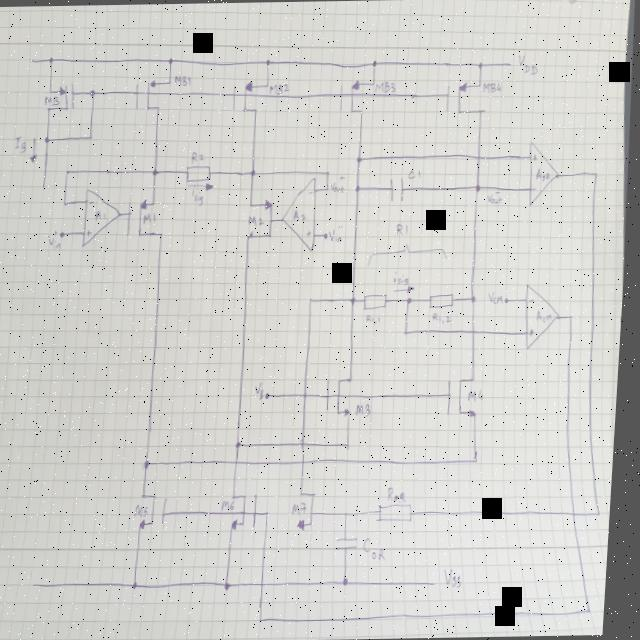capacitor: (338, 534, 364, 552), (390, 174, 405, 200)
crossover: (237, 458, 244, 467), (305, 390, 312, 398), (575, 508, 582, 516), (476, 152, 482, 160), (473, 326, 479, 334), (303, 438, 309, 444), (265, 579, 269, 587), (305, 458, 310, 464)
junction: (347, 575, 355, 586), (147, 457, 155, 468), (152, 166, 159, 176), (370, 58, 377, 68), (229, 578, 236, 588), (355, 182, 362, 192), (45, 133, 51, 143), (476, 181, 482, 191), (591, 604, 597, 614), (137, 580, 144, 588), (593, 169, 600, 177), (476, 456, 483, 464), (89, 88, 96, 96), (239, 439, 245, 448), (477, 59, 483, 68), (570, 311, 576, 320), (250, 166, 256, 174), (408, 296, 414, 304), (167, 55, 173, 63), (356, 154, 362, 162), (264, 57, 270, 65), (352, 294, 358, 302), (405, 327, 411, 335), (348, 508, 354, 516), (65, 166, 71, 174), (348, 440, 354, 448), (600, 508, 606, 516), (62, 198, 69, 204), (48, 54, 53, 62), (472, 294, 477, 302), (269, 508, 274, 516), (310, 295, 315, 302), (264, 615, 269, 622), (88, 132, 92, 140), (326, 168, 331, 174), (326, 184, 329, 190)
resistor: (382, 500, 419, 524), (184, 162, 214, 184), (365, 291, 390, 309), (430, 291, 456, 308)
terminal: (37, 578, 44, 588), (60, 229, 67, 237), (507, 59, 513, 67), (268, 389, 273, 398), (436, 578, 441, 586), (43, 180, 47, 188), (506, 296, 511, 302), (324, 232, 329, 238), (28, 56, 32, 62)
text: (367, 536, 393, 560), (516, 50, 539, 74), (448, 565, 469, 587), (329, 222, 348, 243), (48, 226, 64, 250), (391, 485, 412, 502), (268, 80, 290, 96), (331, 172, 347, 194), (374, 80, 396, 94), (487, 187, 505, 204), (434, 310, 455, 324), (469, 387, 488, 402), (489, 288, 506, 304), (292, 206, 309, 222), (137, 502, 156, 516), (192, 184, 205, 204), (395, 268, 411, 284), (538, 306, 555, 321), (482, 79, 503, 91), (173, 72, 191, 86), (14, 134, 28, 152), (296, 500, 312, 515), (224, 497, 240, 512), (536, 164, 551, 180), (359, 401, 374, 416), (249, 213, 265, 226), (367, 312, 384, 324), (257, 380, 268, 398), (95, 207, 108, 221), (191, 150, 206, 162), (44, 93, 60, 104), (144, 210, 157, 223), (398, 221, 410, 235), (409, 166, 420, 178), (307, 225, 314, 238), (88, 196, 97, 206), (532, 152, 538, 162), (530, 326, 537, 334), (308, 187, 316, 194), (87, 227, 94, 235), (529, 296, 538, 302), (532, 184, 536, 190)
transistor: (446, 370, 488, 423), (441, 77, 488, 120), (125, 195, 166, 241), (232, 487, 267, 534), (229, 76, 271, 114), (131, 76, 172, 114), (335, 76, 376, 114), (326, 372, 359, 418), (141, 488, 176, 529), (245, 196, 276, 242), (299, 487, 323, 533), (45, 81, 77, 112)
